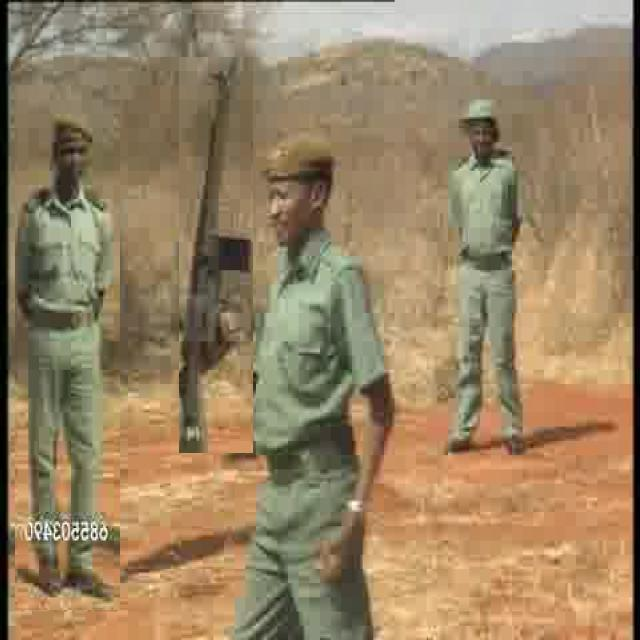poacher: (245, 108, 392, 633), (15, 85, 120, 610), (432, 89, 556, 468)
weapon: (179, 57, 253, 453)
